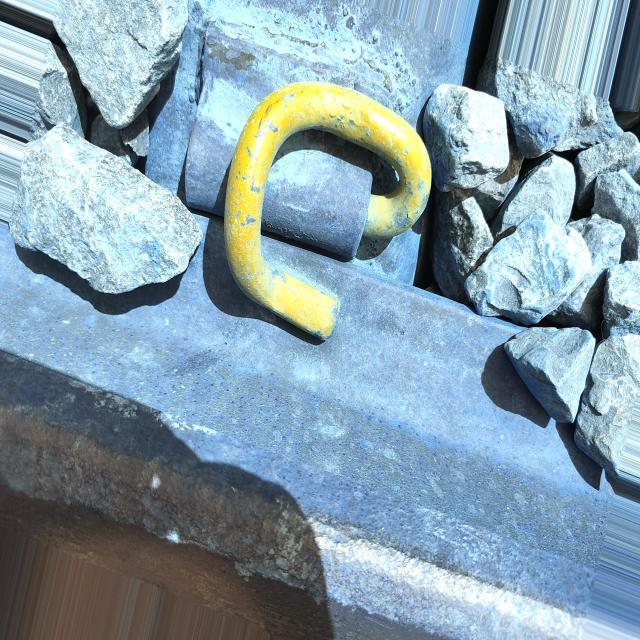Good Fasteners: (181, 17, 432, 357)
